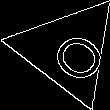O_NW: (32, 17, 103, 83)
